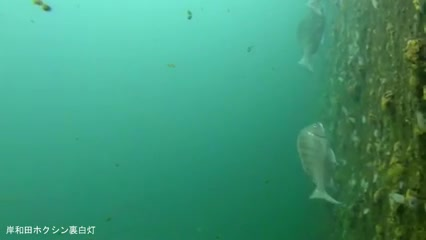kurodai: (287, 121, 339, 198)
